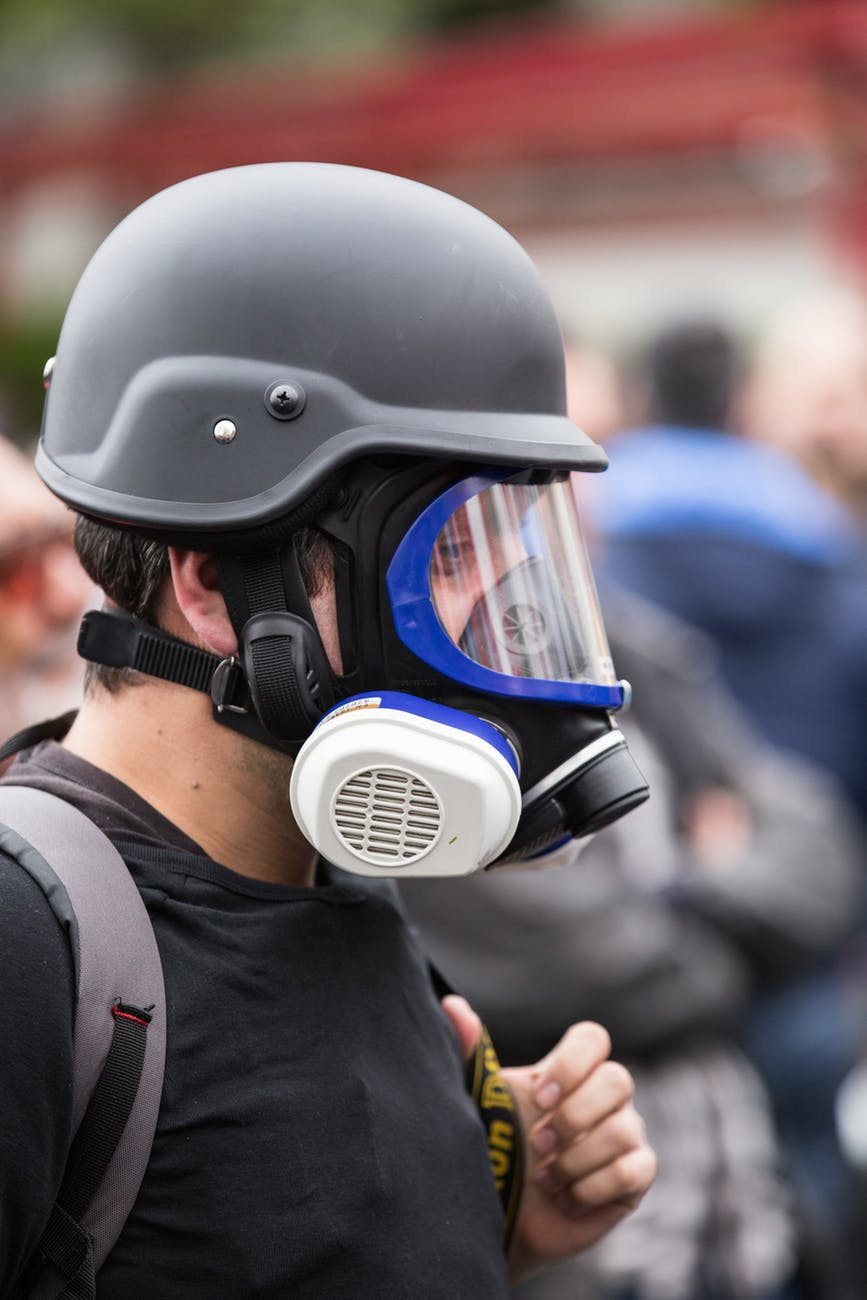helmet: (72, 157, 646, 811)
